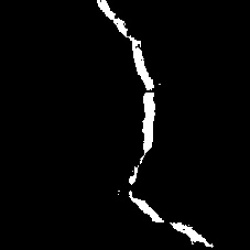crack: (95, 1, 158, 90), (128, 92, 155, 185), (128, 191, 164, 224), (173, 223, 213, 246)
